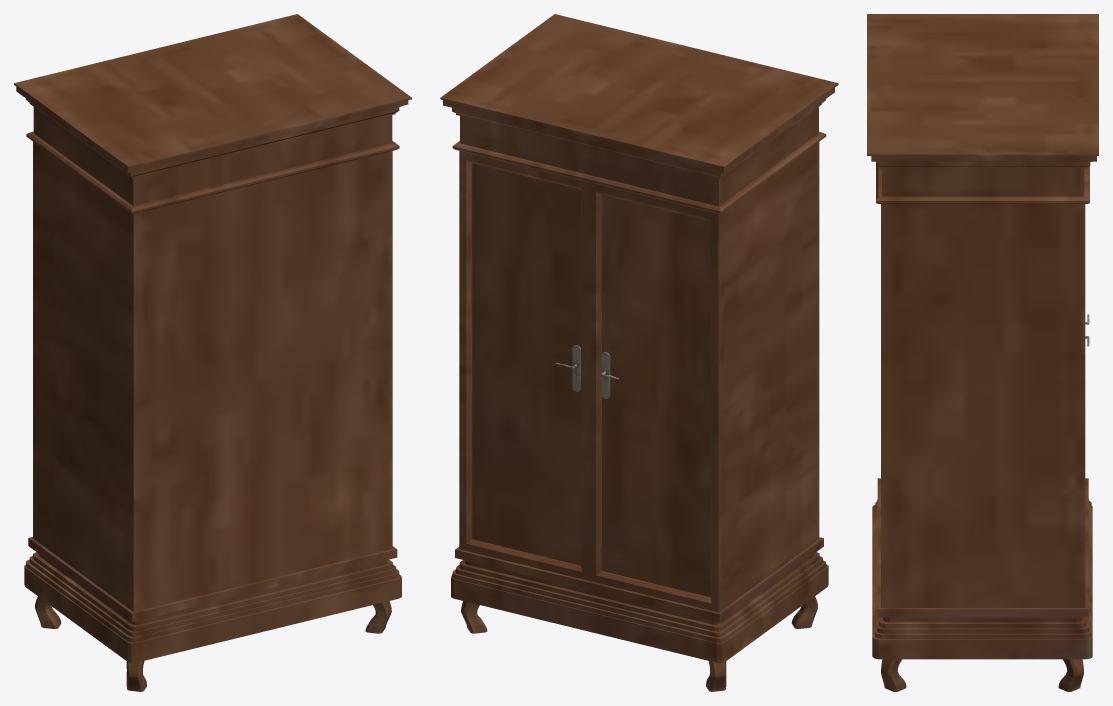
File: wardrobe.glb
3 renders of one model, left to right at view 1: azimuth 30°, elevation 25°; view 2: azimuth 150°, elevation 25°; view 3: azimuth 270°, elevation 25°, orthographic.
Parts seen in each view (by area): view 1: low poly supports__0; view 2: low poly supports__0; view 3: low poly supports__0.
Part boxes in pixels (x1,y1,x2,y2): low poly supports__0: (14,14,411,691); low poly supports__0: (440,14,838,691); low poly supports__0: (867,14,1098,691).
Bounding box in the file's own units: 1.59 × 2.88 × 1.11.
1 material, 1 textured.
